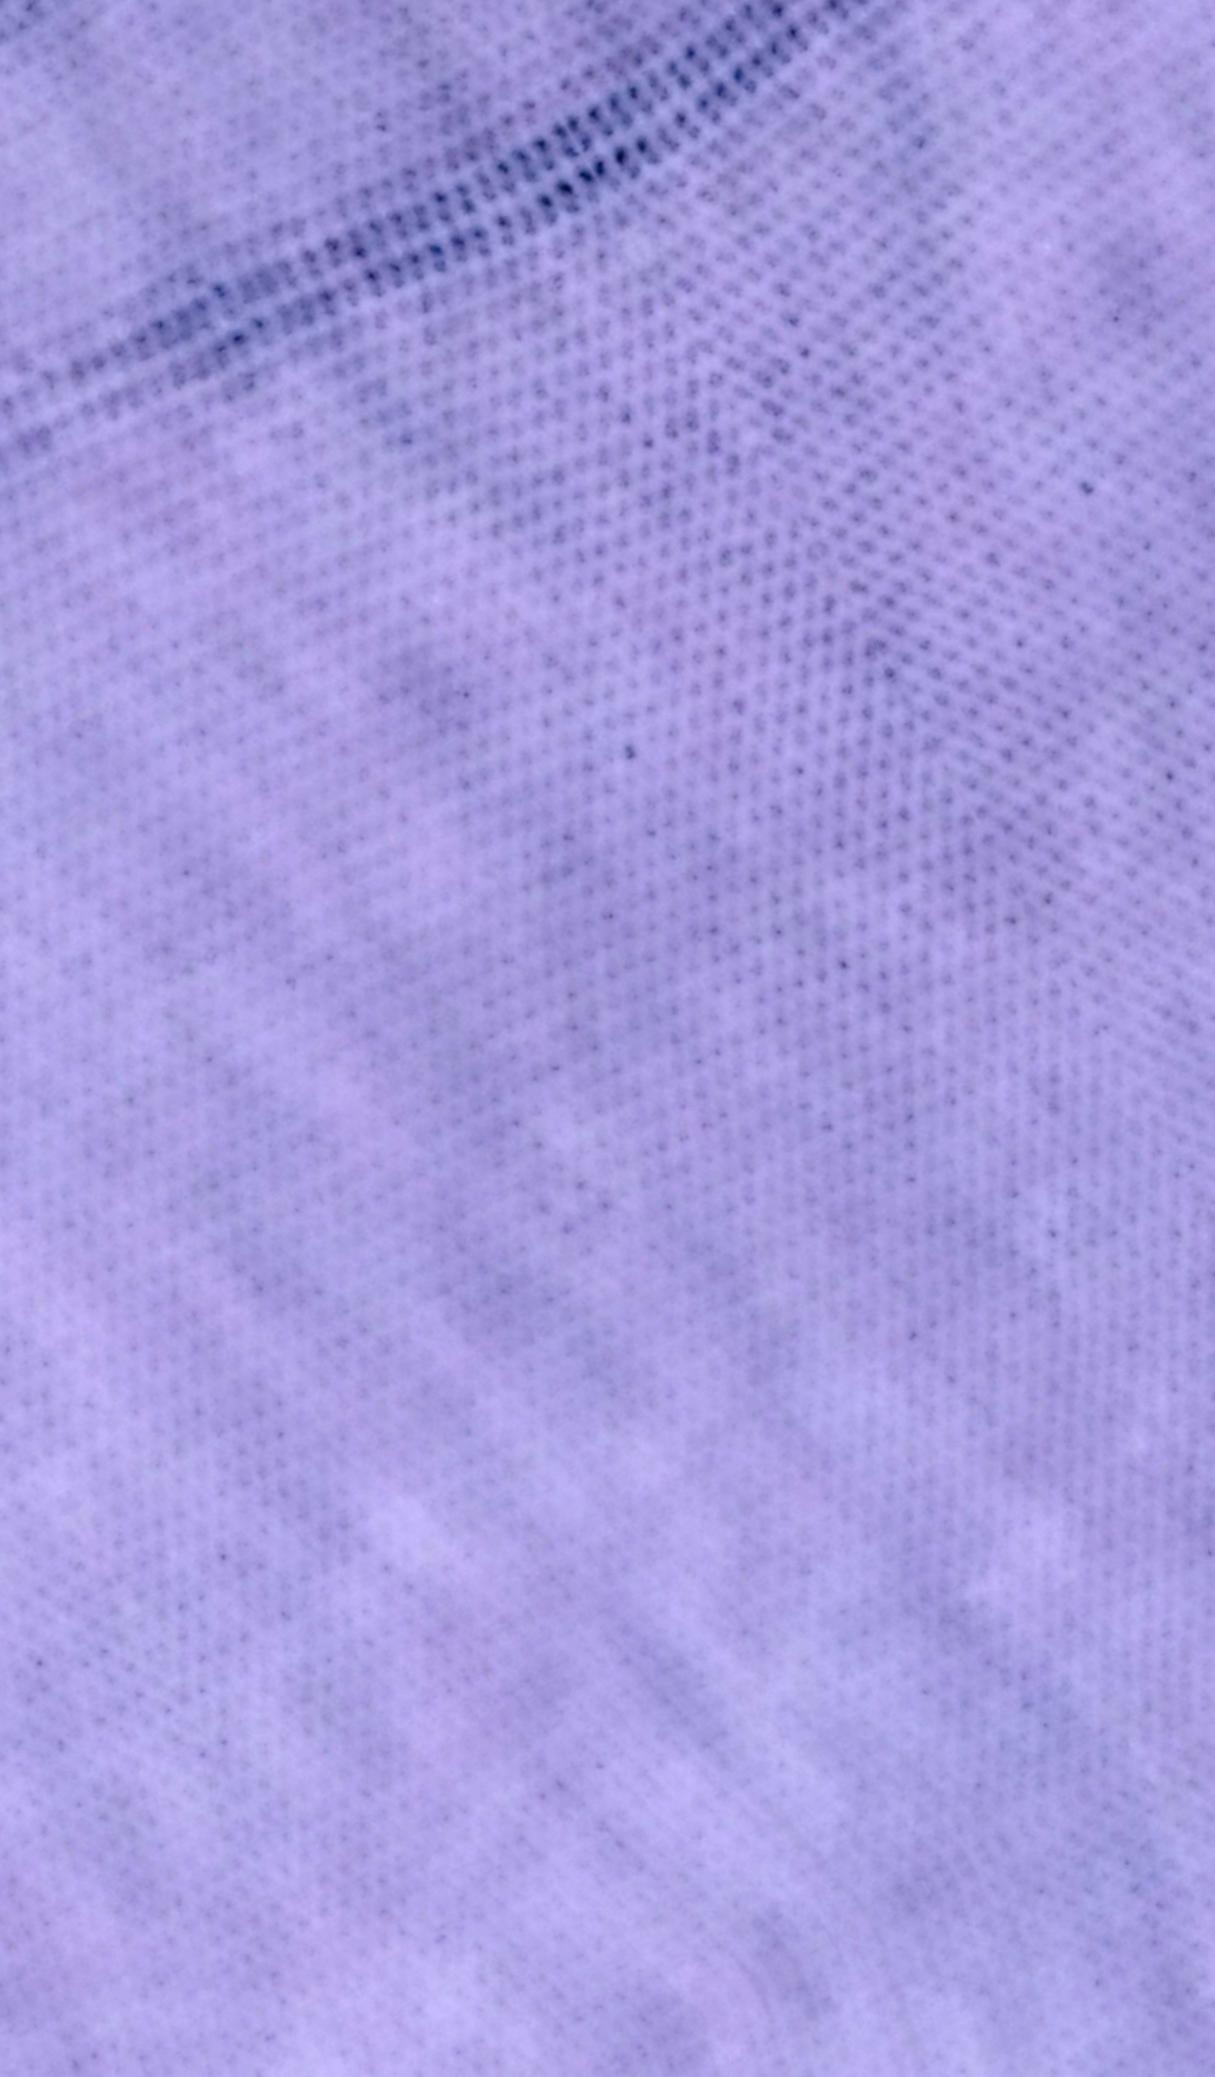slub: (7, 14, 895, 470)
